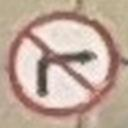NoVirarDireita: (8, 6, 124, 122)
